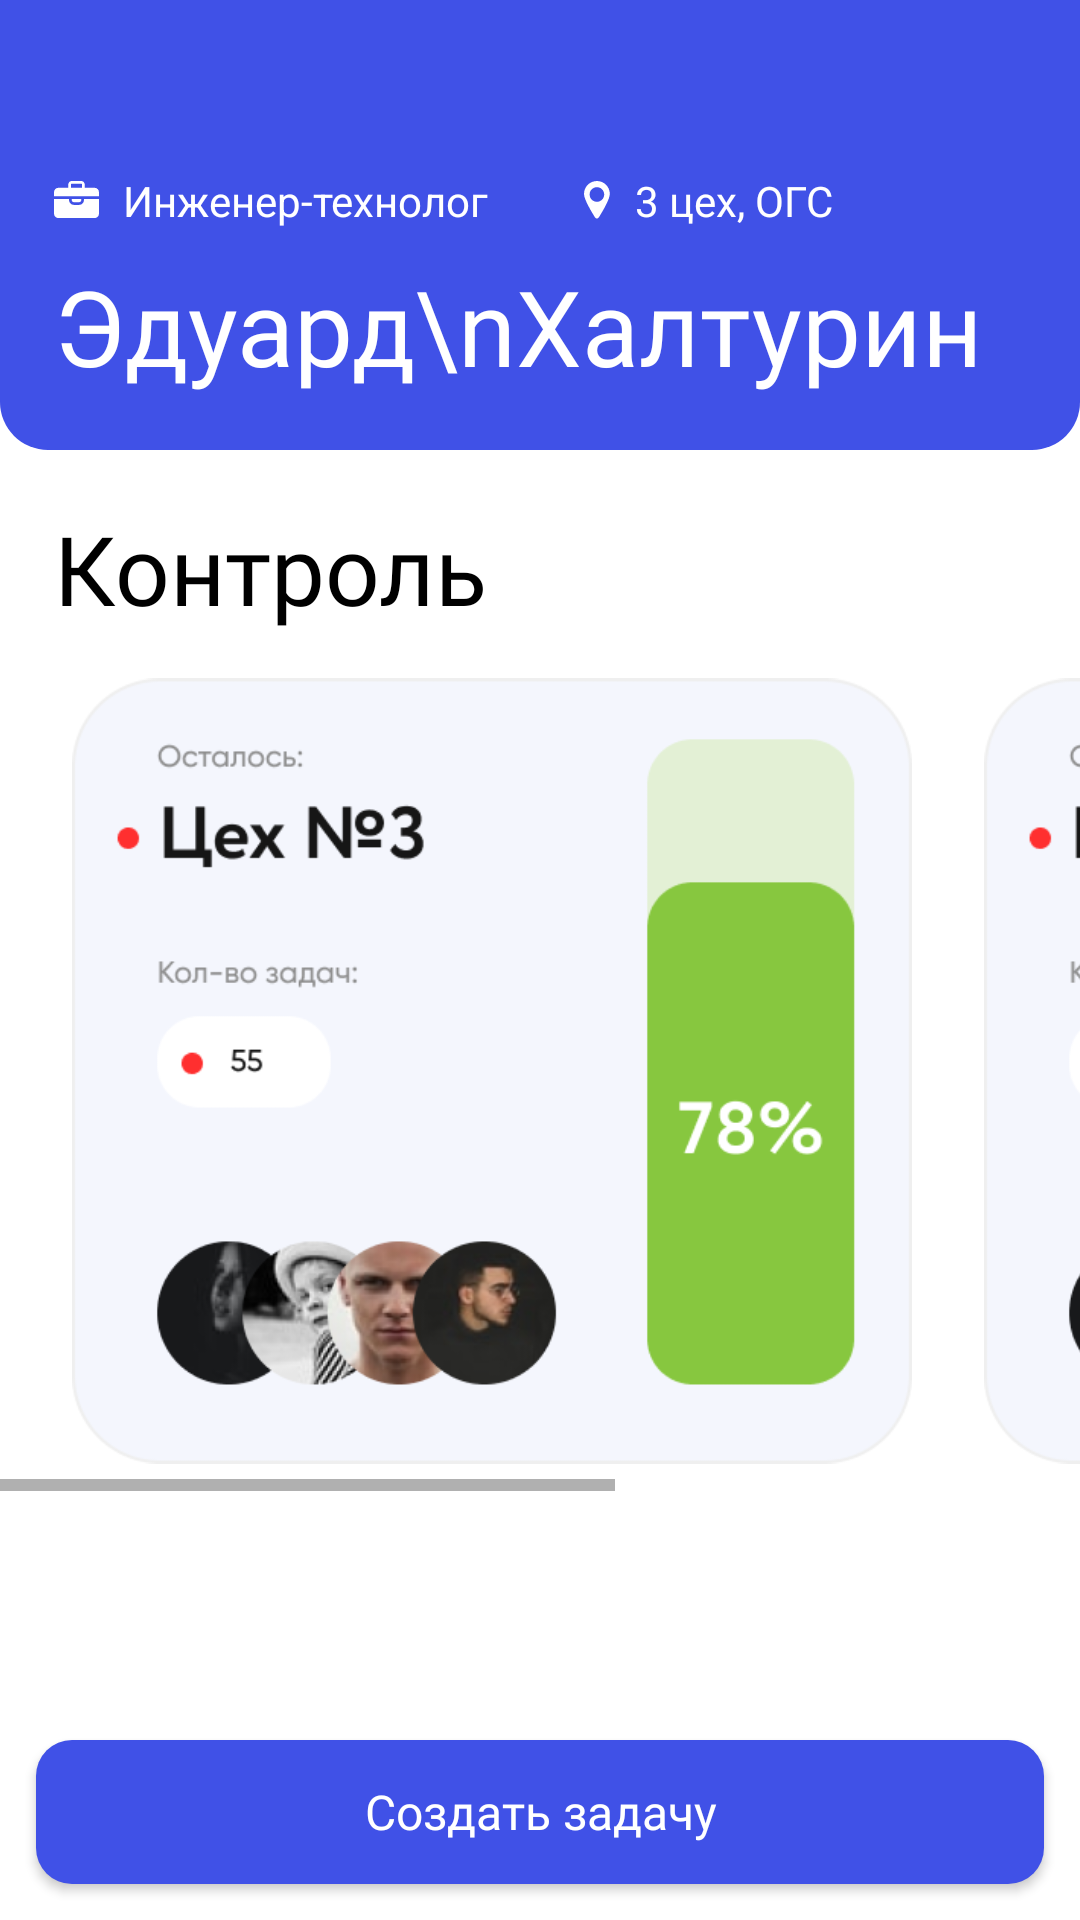

Named icons in this screenshot (1080*1920) and their bounding boxes, (x1, y1, x2, y2):
case: (54, 181, 99, 218)
location: (584, 181, 610, 219)
